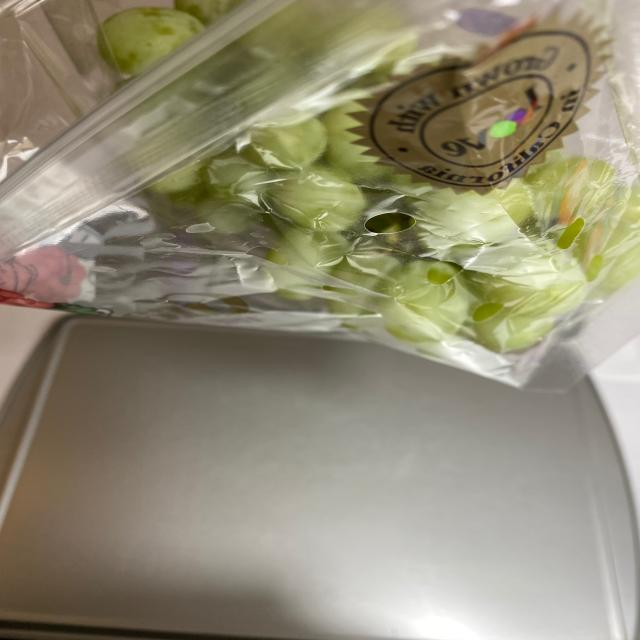grapes: (94, 5, 640, 349)
